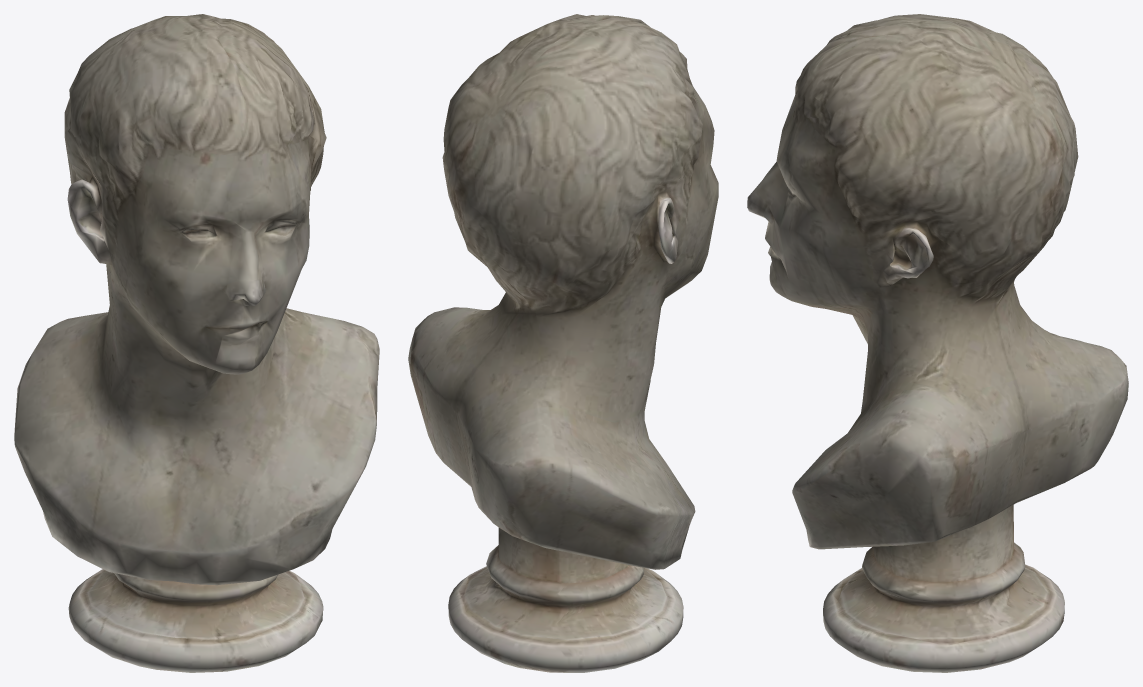
Rendered from marble_bust_01.glb.
The picture shows the model from 3 angles, left to right: view 1: azimuth 30°, elevation 25°; view 2: azimuth 150°, elevation 25°; view 3: azimuth 270°, elevation 25°; orthographic projection. The views are drawn at different scales.
Visible parts, largest first — view 1: marble_bust_01; view 2: marble_bust_01; view 3: marble_bust_01.
Part boxes in pixels (left/top/right/bottom): marble_bust_01: left=14, top=14, right=379, bottom=672; marble_bust_01: left=408, top=14, right=718, bottom=672; marble_bust_01: left=747, top=14, right=1128, bottom=672.
Size of the model in its own units: 0.2718 by 0.5148 by 0.2986.
Materials: 1 (1 with a texture image).
